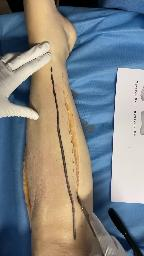scalpel: (76, 192, 98, 240)
